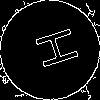H: (25, 25, 80, 74)
